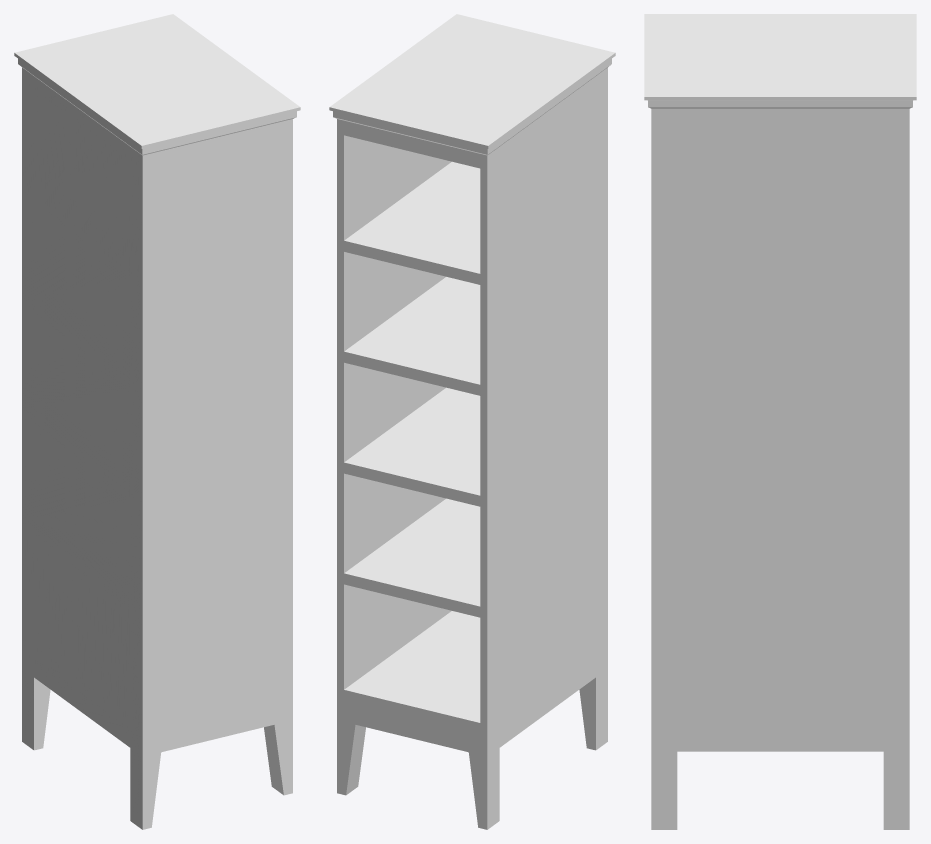
File: Mueble6.fbx
The picture shows the model from 3 angles, left to right: view 1: azimuth 30°, elevation 25°; view 2: azimuth 150°, elevation 25°; view 3: azimuth 270°, elevation 25°; orthographic projection. The views are drawn at different scales.
Visible parts, largest first — view 1: pCube5; view 2: pCube5; view 3: pCube5.
Boxes of the visible parts, x1,y1,x2,y2 form: pCube5: (14,14,300,829); pCube5: (329,14,615,829); pCube5: (644,14,916,829).
Bounding box in the file's own units: 3.76 × 15.57 × 5.23.
